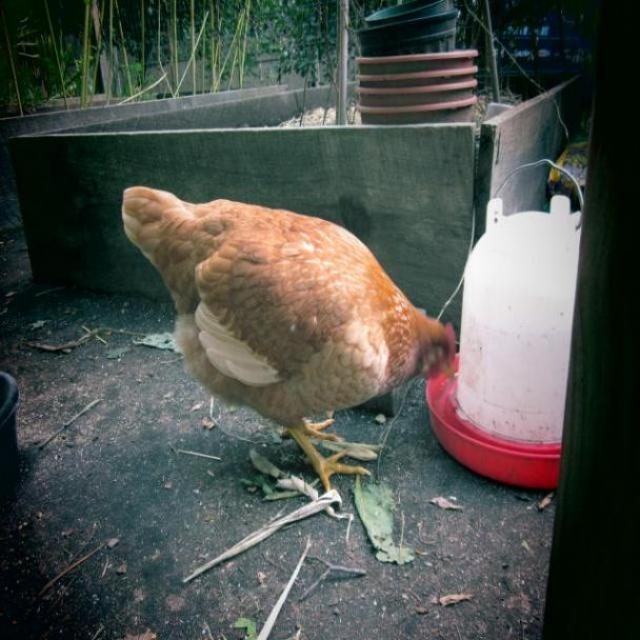Chicken: (121, 173, 457, 483)
